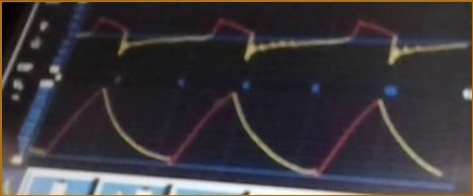Accumulation Flow: (76, 11, 467, 67)
Volume: (32, 89, 443, 182)
